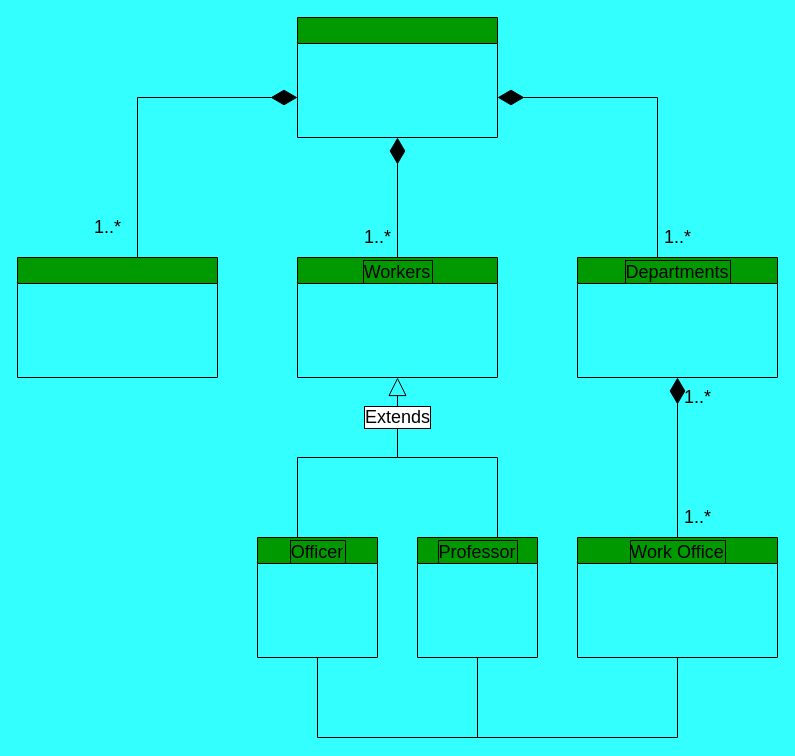
The diagram is 795 pixels wide and 756 high, and some of its shapes have lost their labels. The shapes that lost their labels are listed below. From the top down, each one's centre as x and y in pixels, then its label:
At (x=397, y=77): "University".
At (x=117, y=317): "Classrooms".
